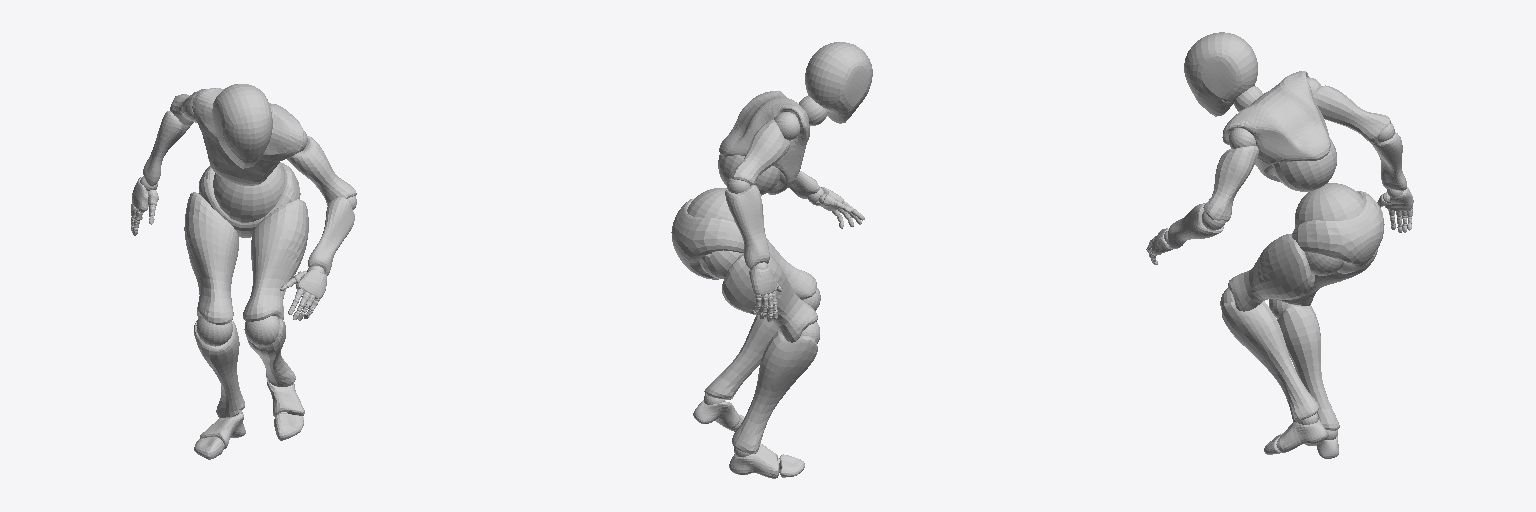
3 renders of one model, left to right at view 1: azimuth 30°, elevation 25°; view 2: azimuth 150°, elevation 25°; view 3: azimuth 270°, elevation 25°, orthographic.
Parts seen in each view (by area): view 1: Beta_Surface, Beta_Joints; view 2: Beta_Surface, Beta_Joints; view 3: Beta_Surface, Beta_Joints.
Part boxes in pixels (bbox=[...]): Beta_Surface: bbox=[131, 84, 356, 459]; Beta_Joints: bbox=[131, 104, 356, 449]; Beta_Surface: bbox=[671, 42, 872, 478]; Beta_Joints: bbox=[687, 96, 860, 472]; Beta_Surface: bbox=[1146, 32, 1413, 458]; Beta_Joints: bbox=[1147, 77, 1412, 439].
Size of the model in its own units: 0.5117 by 1.46 by 0.8801.